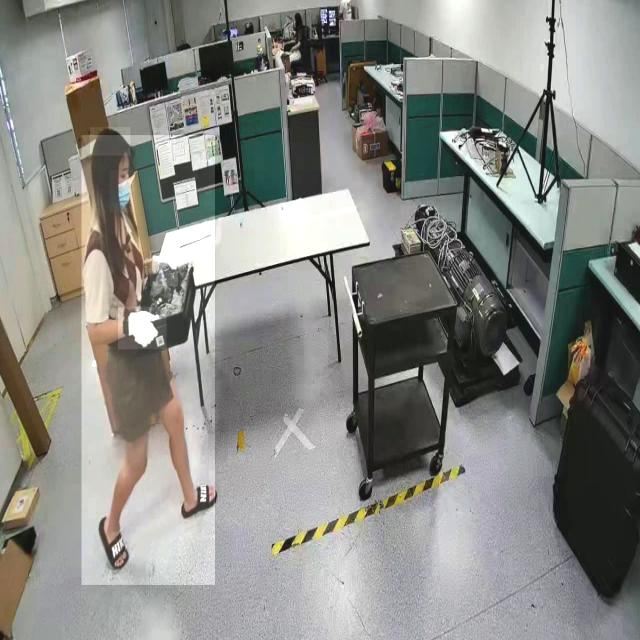face_mask: (110, 170, 134, 212)
hand_glove: (118, 307, 166, 349), (150, 251, 178, 286)
head_nohelmet: (90, 127, 131, 157), (294, 10, 301, 18)
person: (81, 135, 216, 586)
